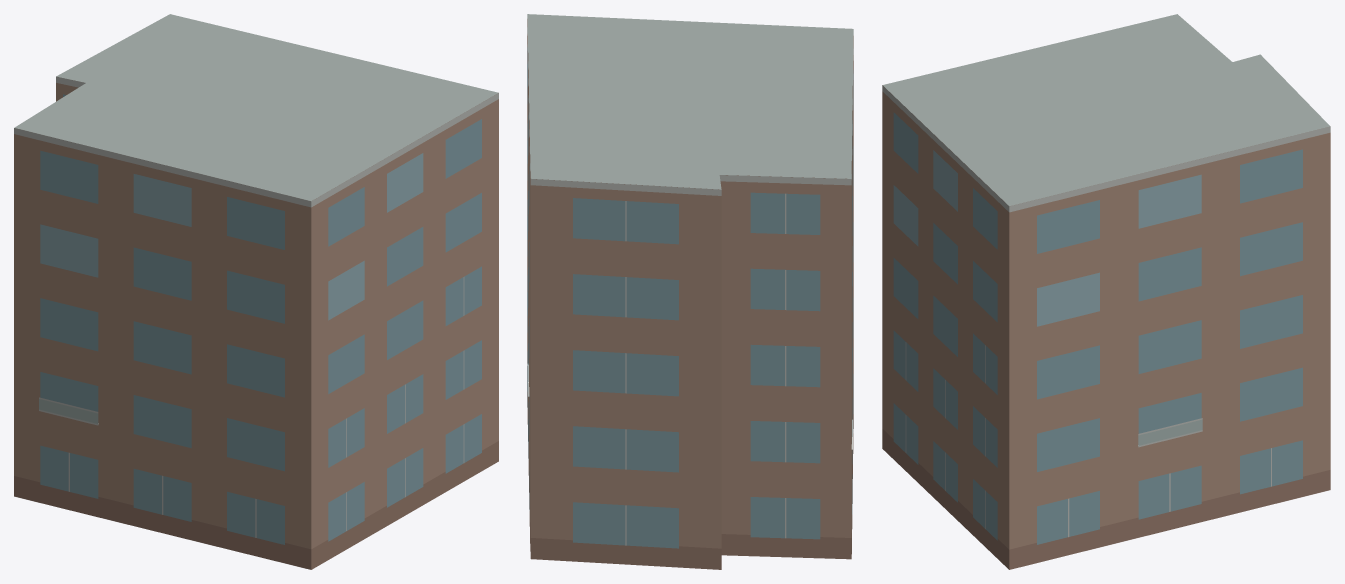
The model's file is survey-upis-32971060.glb.
3 views of the same model, side by side, from view 1: azimuth 30°, elevation 25°; view 2: azimuth 150°, elevation 25°; view 3: azimuth 270°, elevation 25° (orthographic). The views are drawn at different scales.
Visible parts, largest first — view 1: survey-upis-32971060.tmp; view 2: survey-upis-32971060.tmp; view 3: survey-upis-32971060.tmp.
Boxes of the visible parts, box(x1,y1,x2,y2) form: survey-upis-32971060.tmp: box(14, 14, 498, 569); survey-upis-32971060.tmp: box(527, 14, 853, 569); survey-upis-32971060.tmp: box(882, 14, 1330, 569).
Bounding box in the file's own units: 16.34 × 14.4 × 16.09.
